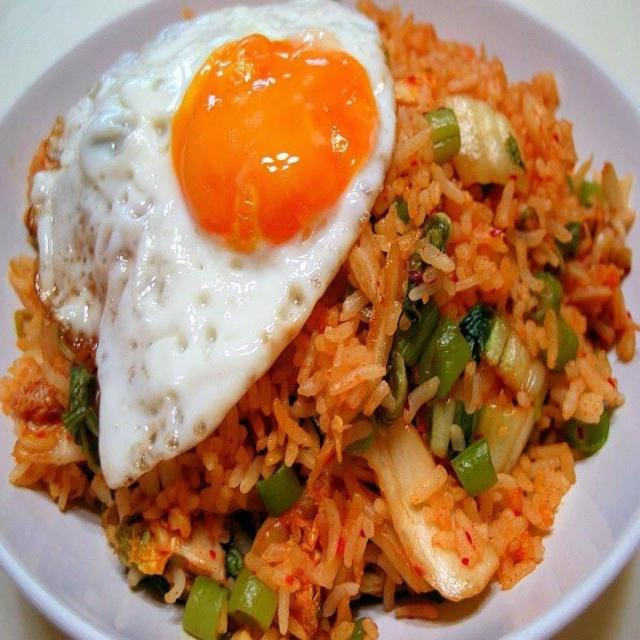Nasi Goreng: (54, 25, 634, 640)
